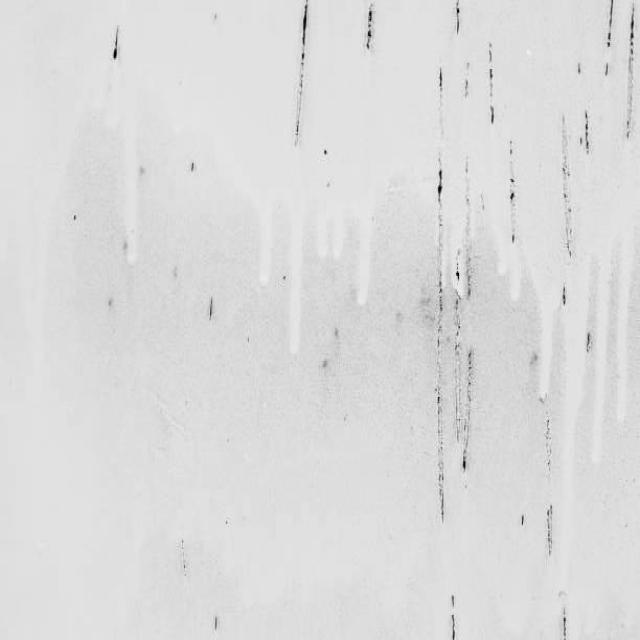paint drips: (426, 187, 640, 512), (215, 153, 397, 365), (98, 104, 152, 266)
